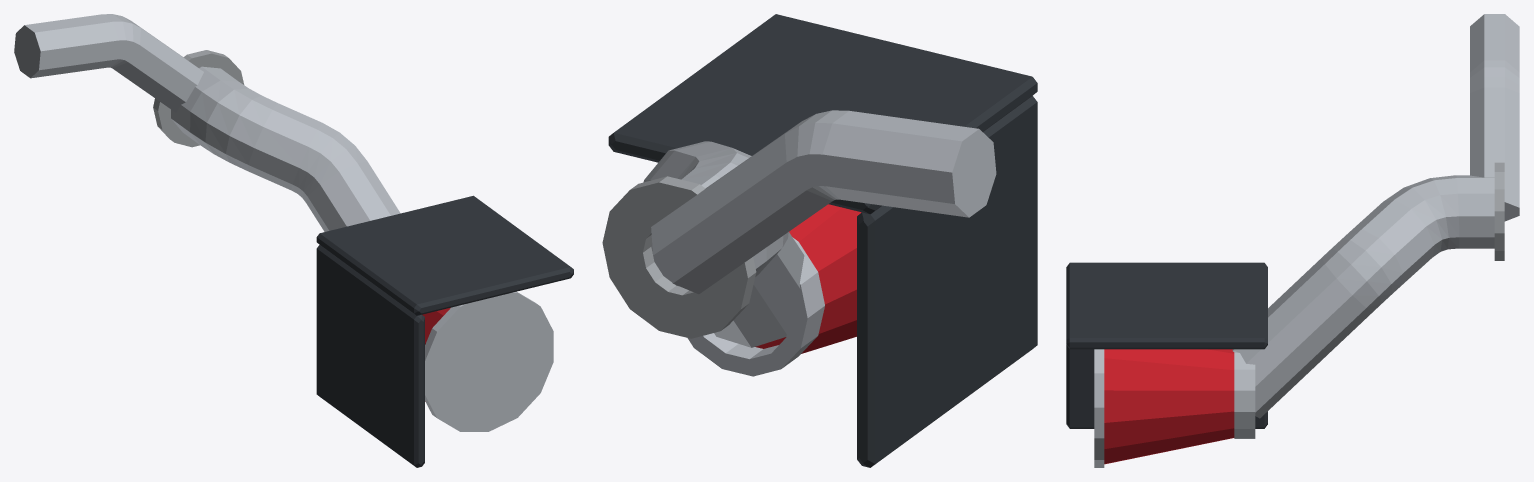
Rendered from apex_v8.glb.
The picture shows the model from 3 angles, left to right: view 1: azimuth 30°, elevation 25°; view 2: azimuth 150°, elevation 25°; view 3: azimuth 270°, elevation 25°; orthographic projection. The views are drawn at different scales.
Visible parts, largest first — view 1: model; view 2: model; view 3: model.
Boxes of the visible parts, bbox=[...] form: model: bbox=[14, 14, 573, 467]; model: bbox=[602, 14, 1037, 467]; model: bbox=[1066, 14, 1519, 467].
Bounding box in the file's own units: 0.463 × 0.4294 × 0.5396.
Materials: 2 (1 with a texture image).
